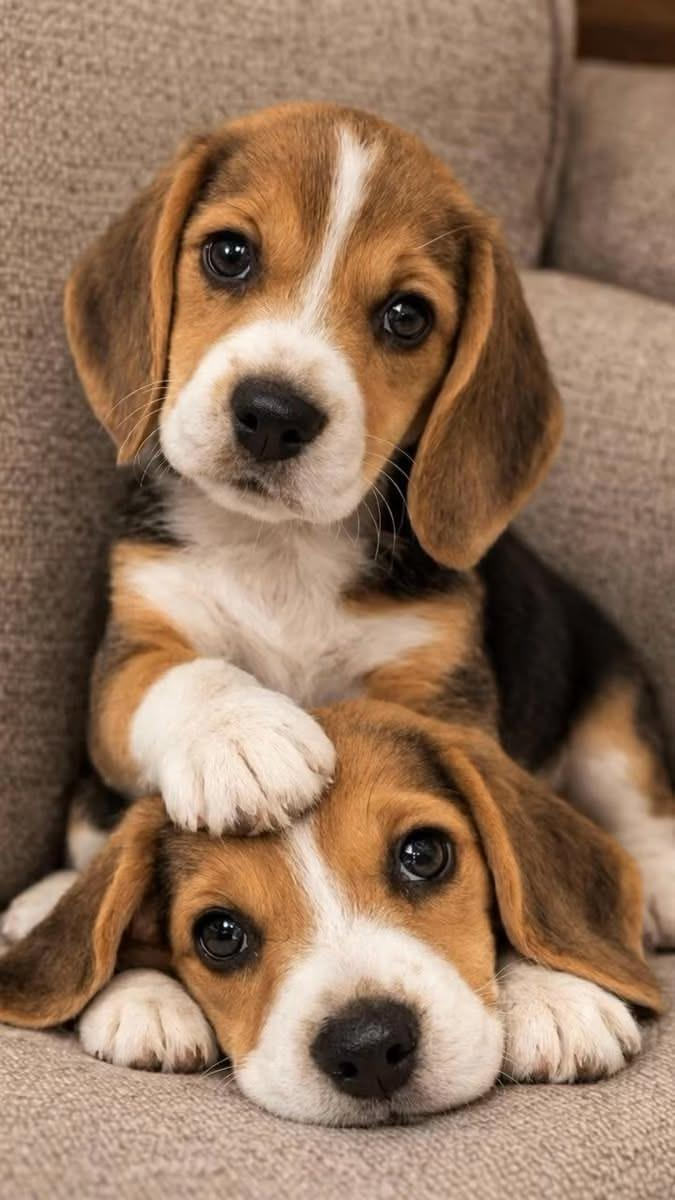puppy-dog: (58, 96, 675, 955), (0, 689, 667, 1131)
